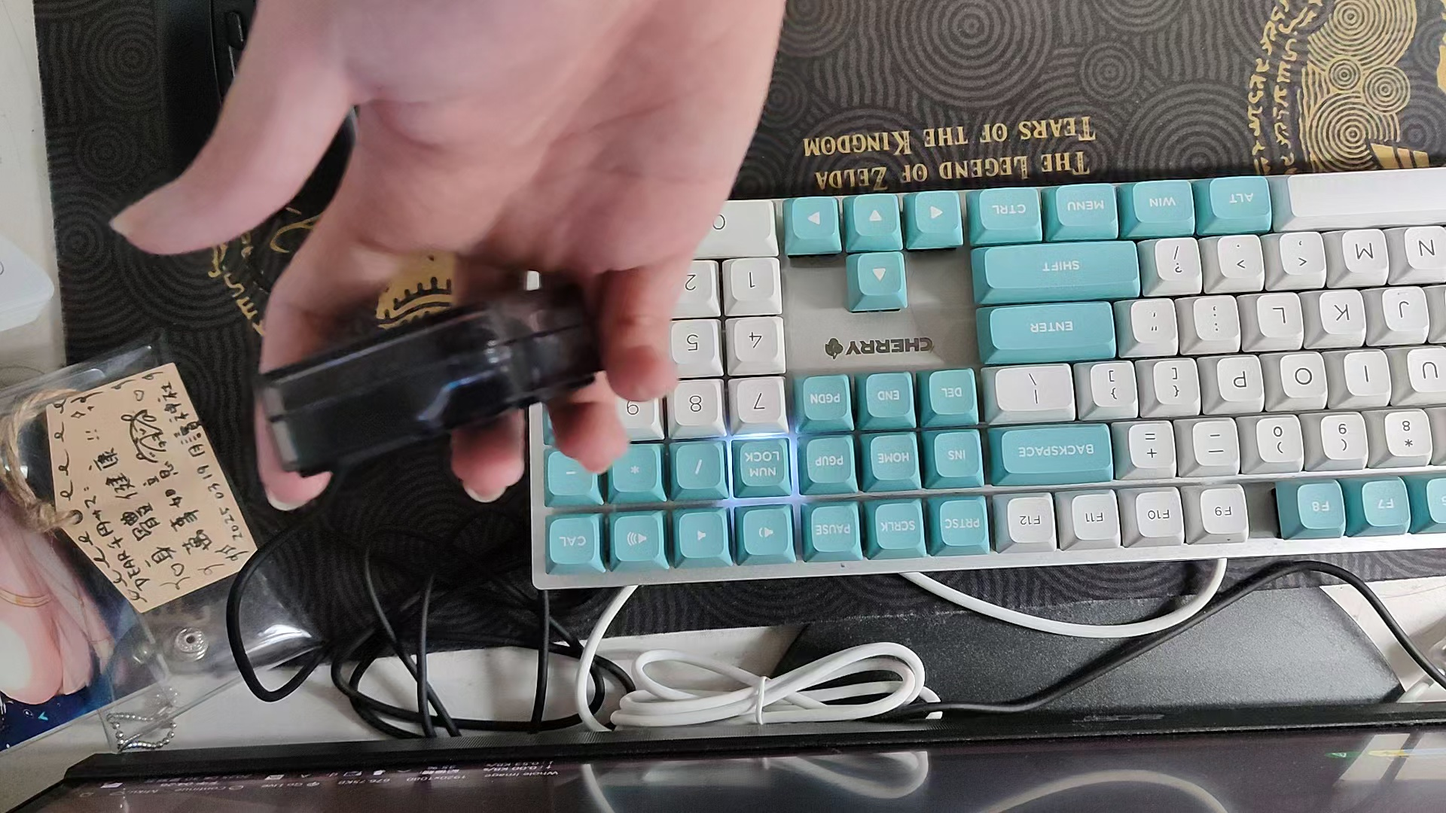Wireless_earphone: (250, 283, 608, 475)
